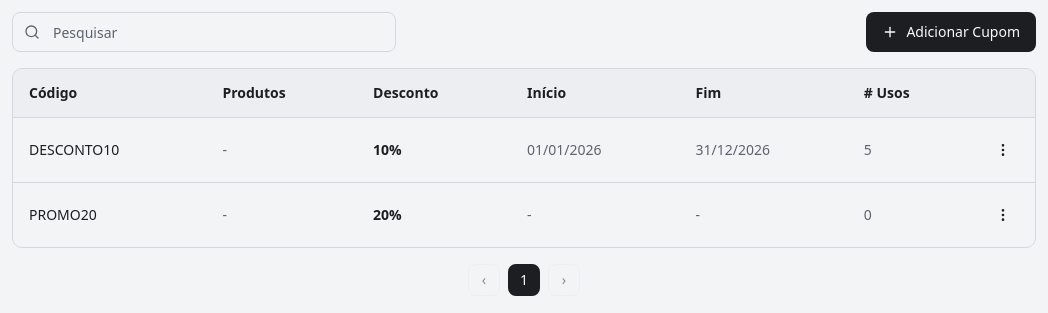
Test: CouponsTable › Empty State › shows empty message when search has no results
The width and height of the screenshot is (1048, 313).
Type "INEXISTENTE" into the field with placeholder "Pesquisar".
click(204, 32); type("INEXISTENTE")  # box [12,12,396,52]
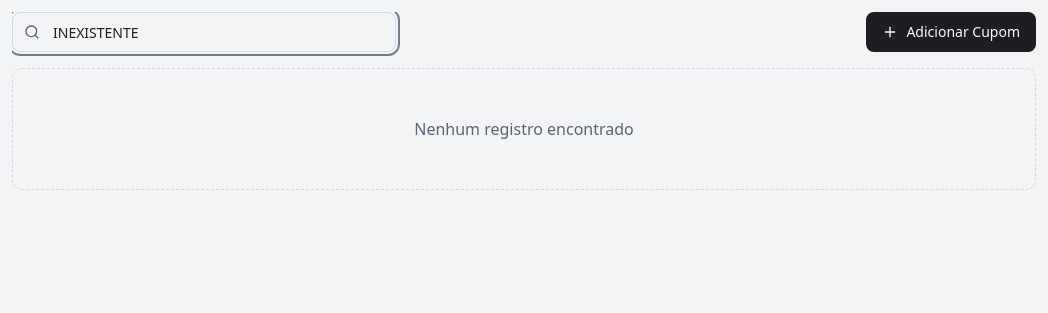
Expected: the text "Nenhum registro encontrado" is shown, [414,118,634,140]
